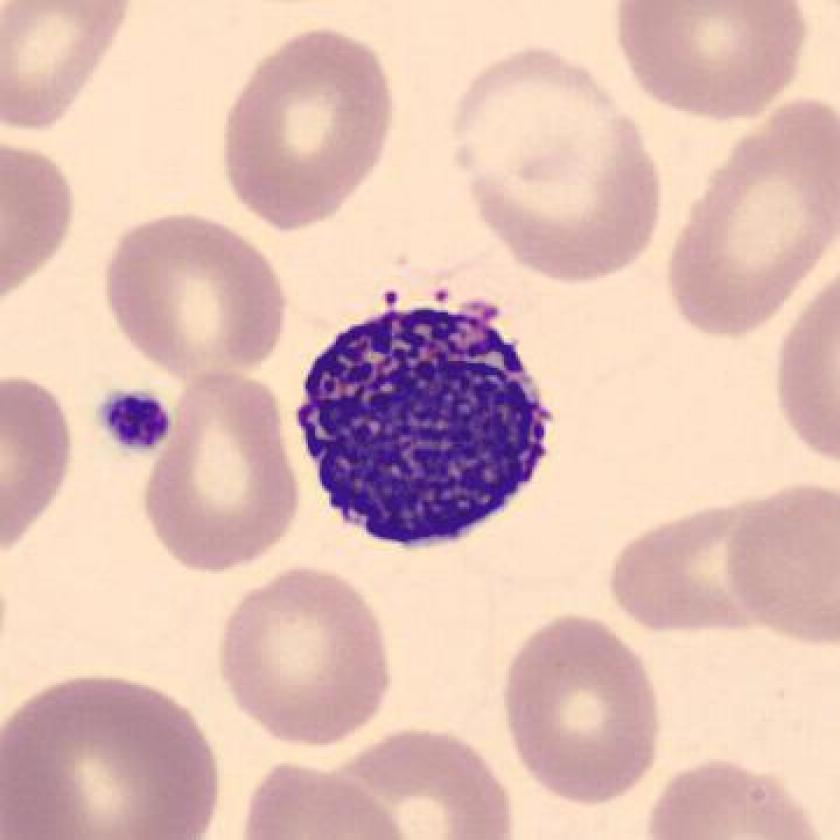basophil: (283, 274, 566, 566)
